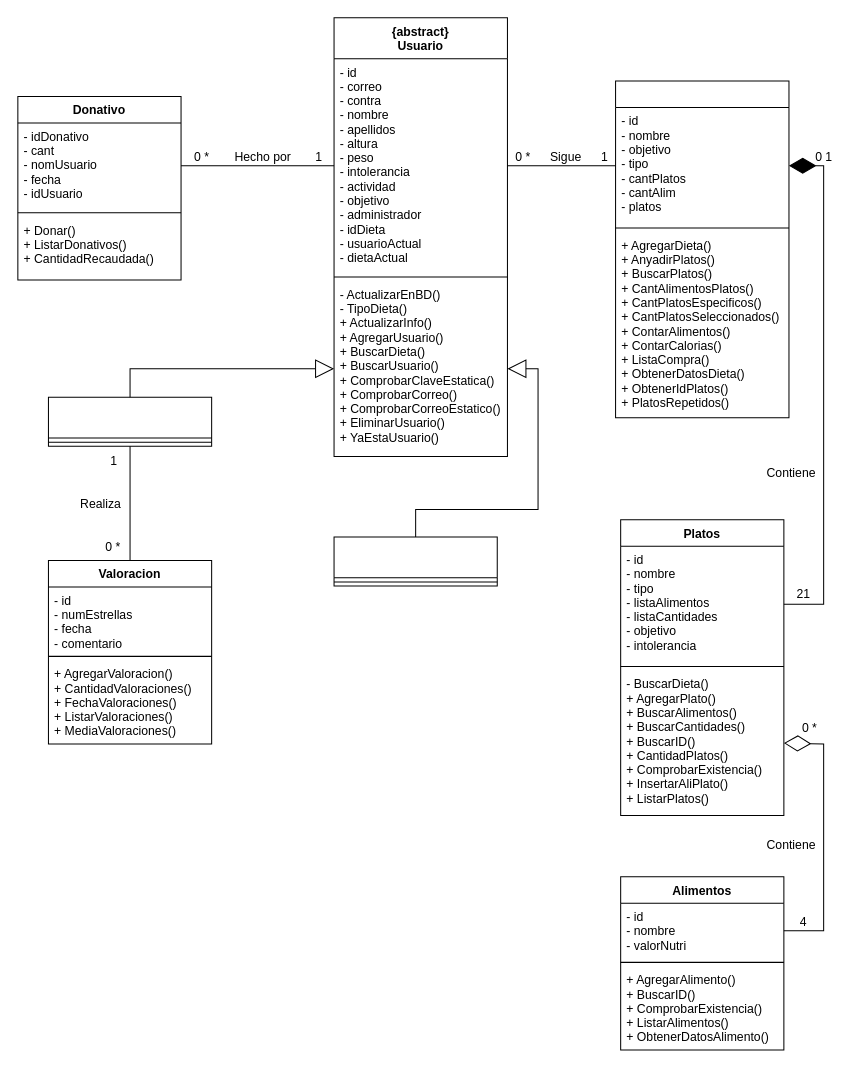
The diagram is 868 pixels wide and 1071 high, and some of its shapes have lost their labels. Each missing label, with the box of its shape:
Dietas: (615, 80, 789, 418)
Usuario anónimo: (47, 396, 212, 446)
Usuario registrado: (333, 536, 497, 586)
